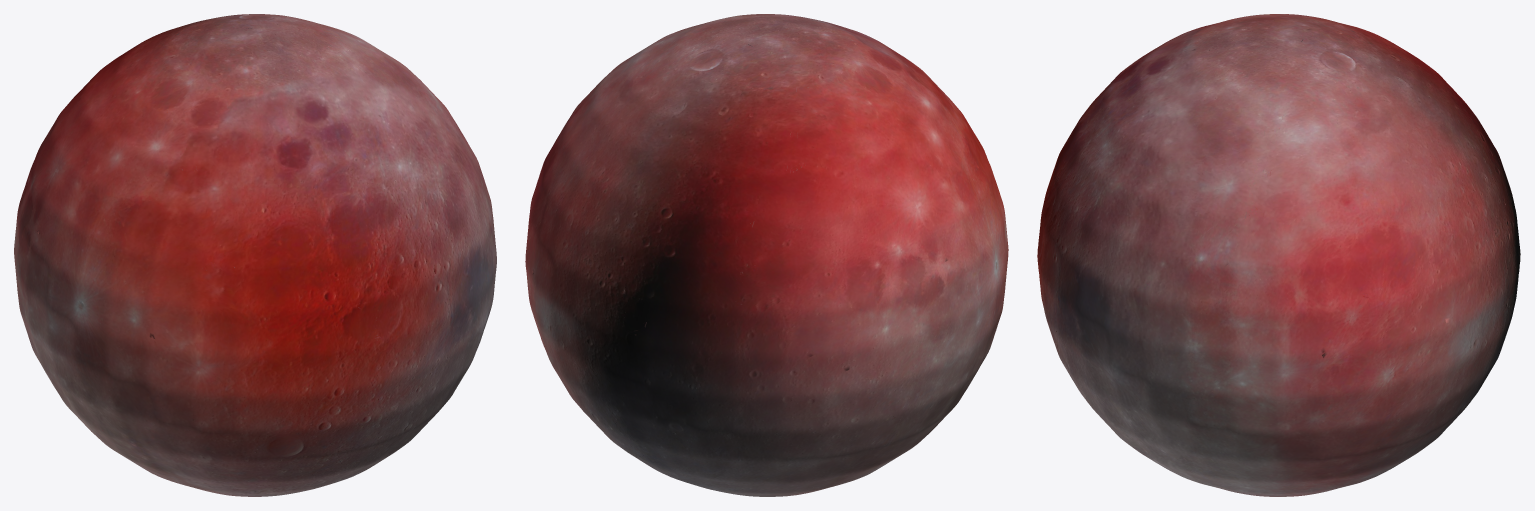
Rendered from a_moon.glb.
3 views of the same model, side by side, from view 1: azimuth 30°, elevation 25°; view 2: azimuth 150°, elevation 25°; view 3: azimuth 270°, elevation 25° (orthographic).
Bounding box in the file's own units: 2 × 2 × 2.
Materials: 1 (1 with a texture image).
